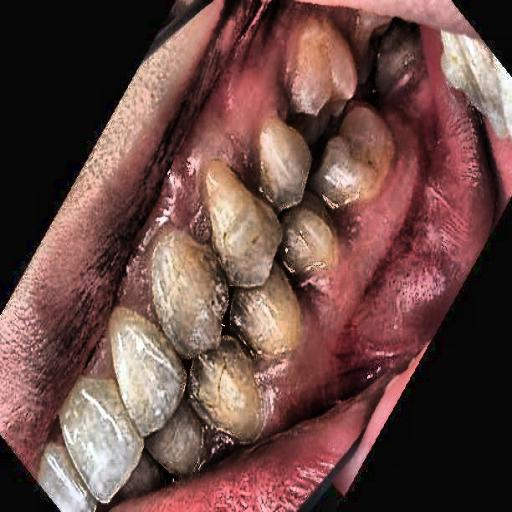Calculus: (140, 136, 356, 434), (40, 296, 214, 512), (297, 16, 452, 172)
